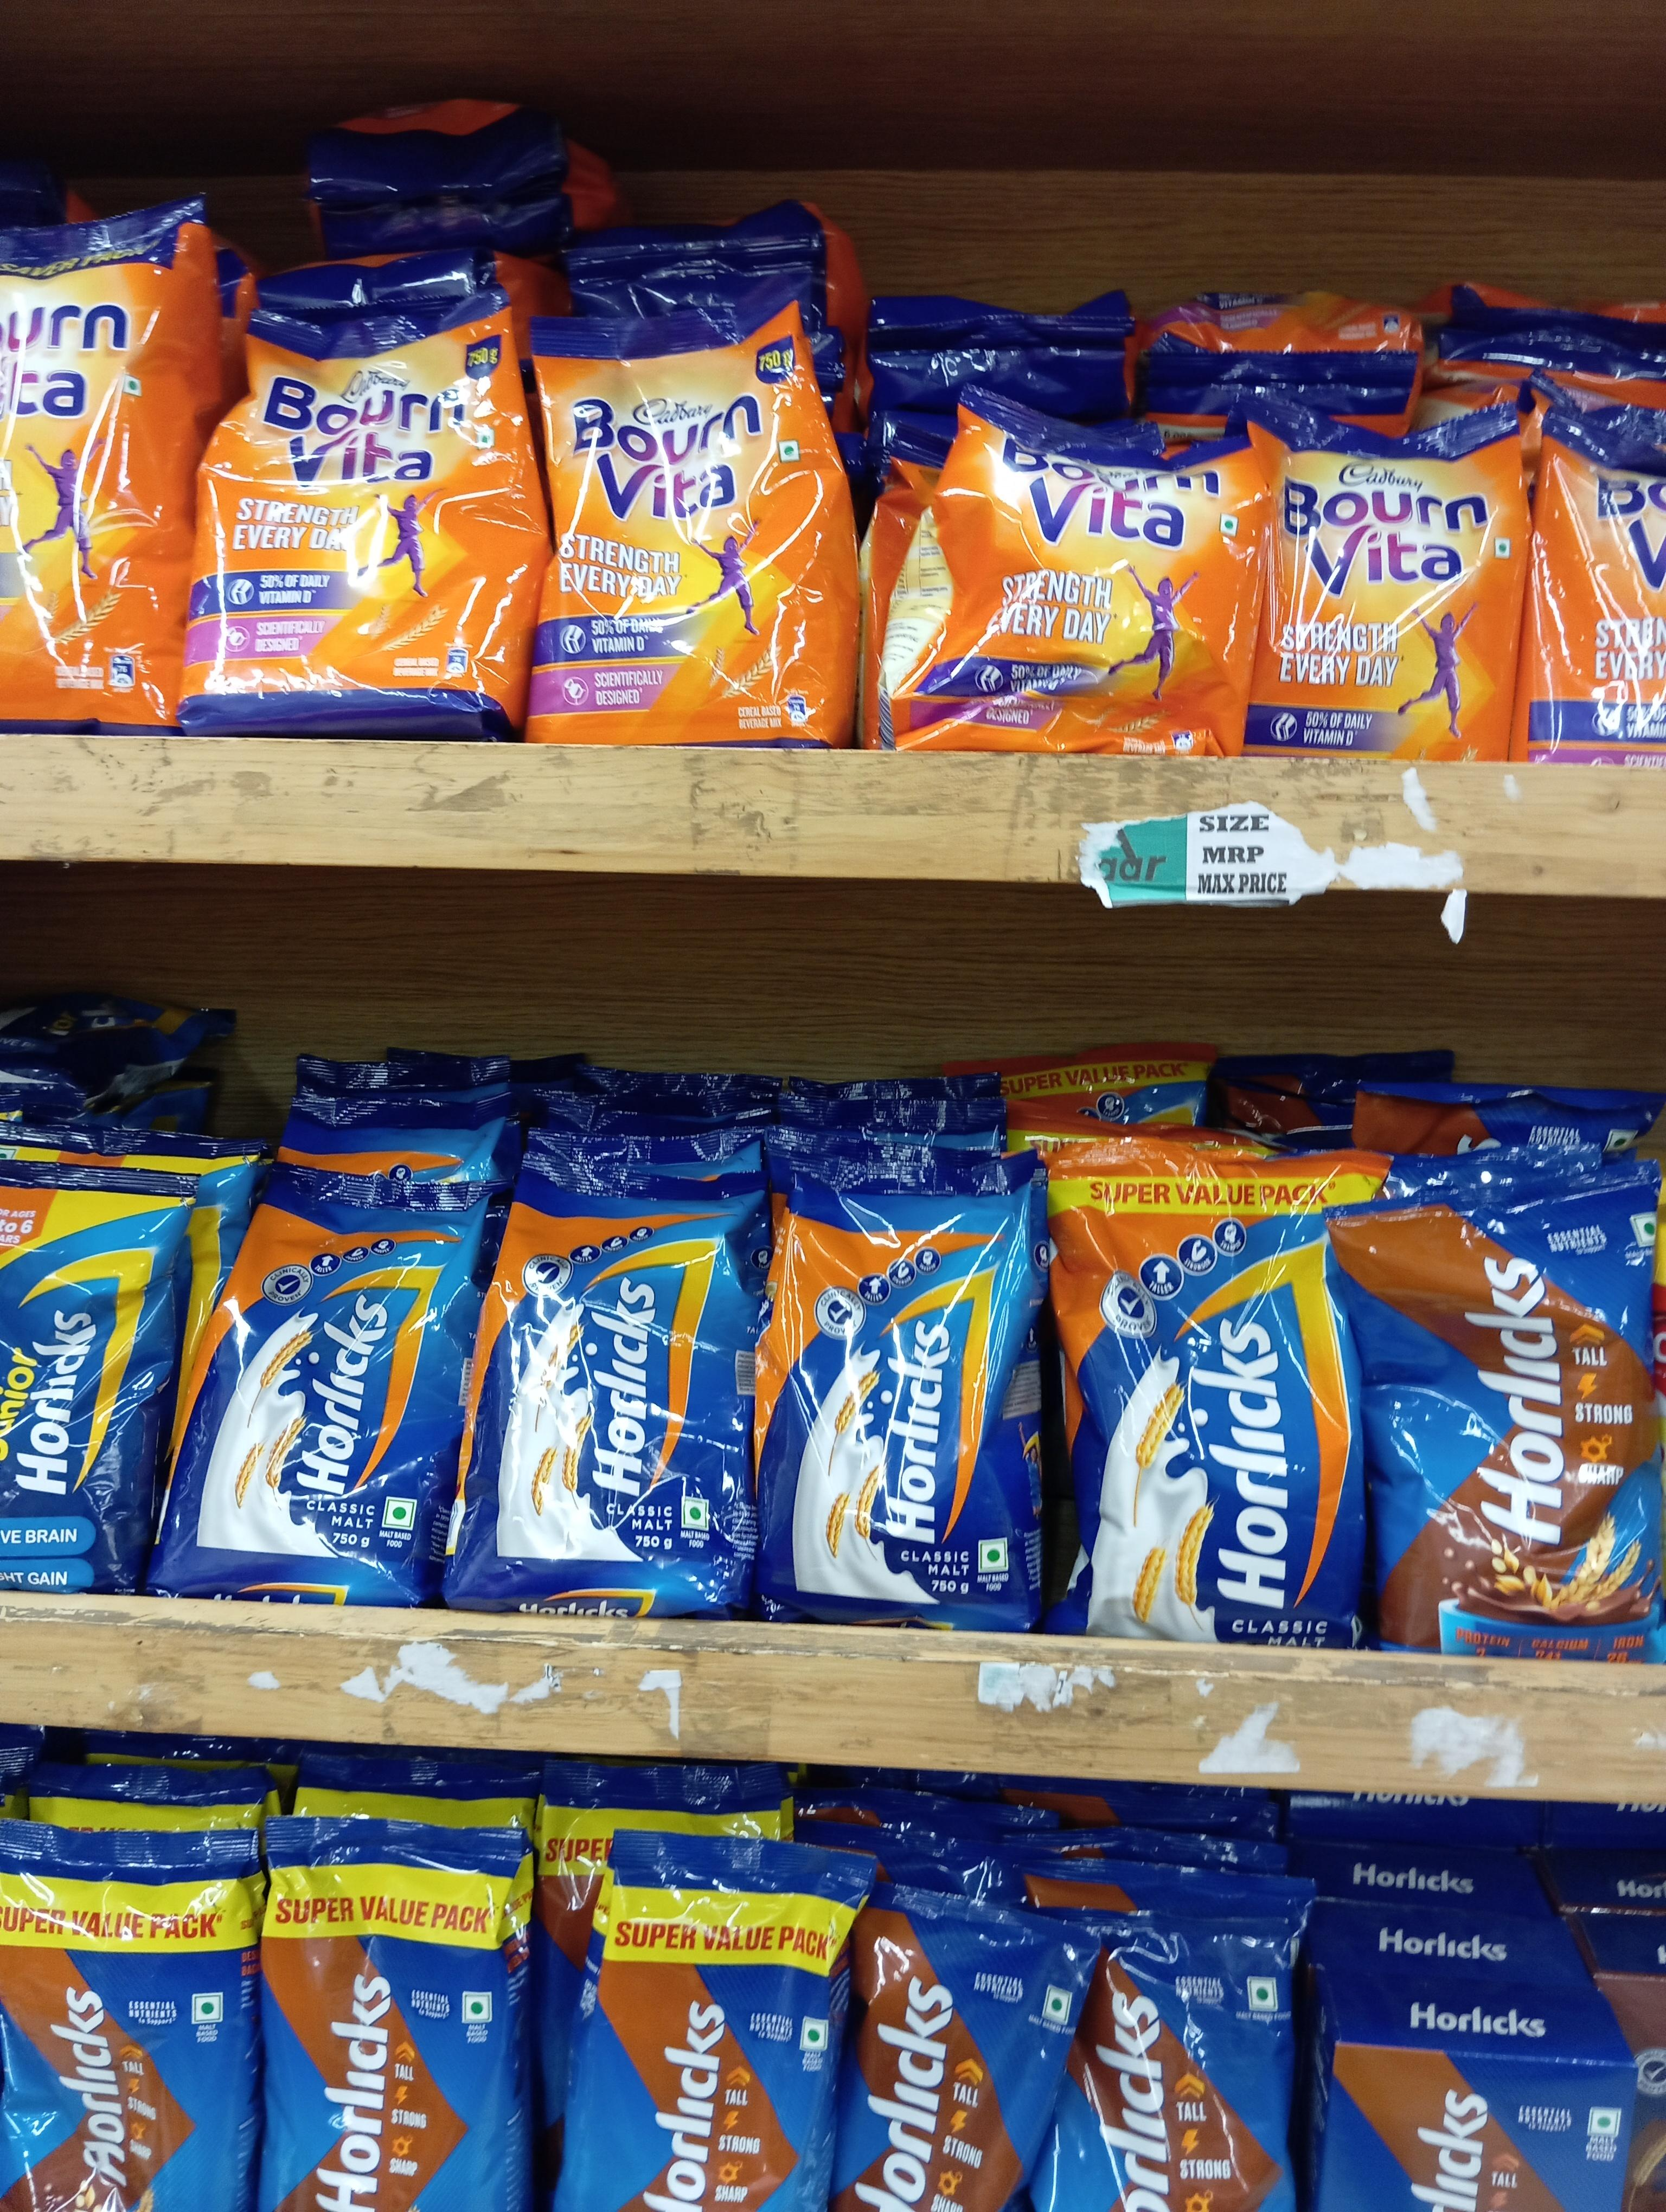BOURN_VITA_500_G_POUCH: (924, 414, 1255, 755), (1267, 397, 1507, 766)
BOURN_VITA_750_G_POUCH: (201, 294, 530, 747), (551, 320, 847, 752)
HORLICK_CHOCOLATE_750_G_POUCH: (1367, 1198, 1666, 1659), (259, 1820, 516, 2212), (0, 1810, 249, 2212), (583, 1836, 830, 2212), (1064, 1909, 1292, 2212), (847, 1896, 1032, 2212)
HORLICK_CLASSIC_MALT_750_G_POUCH: (1048, 1152, 1355, 1652), (459, 1151, 749, 1616), (760, 1168, 1038, 1628), (173, 1151, 415, 1602)
